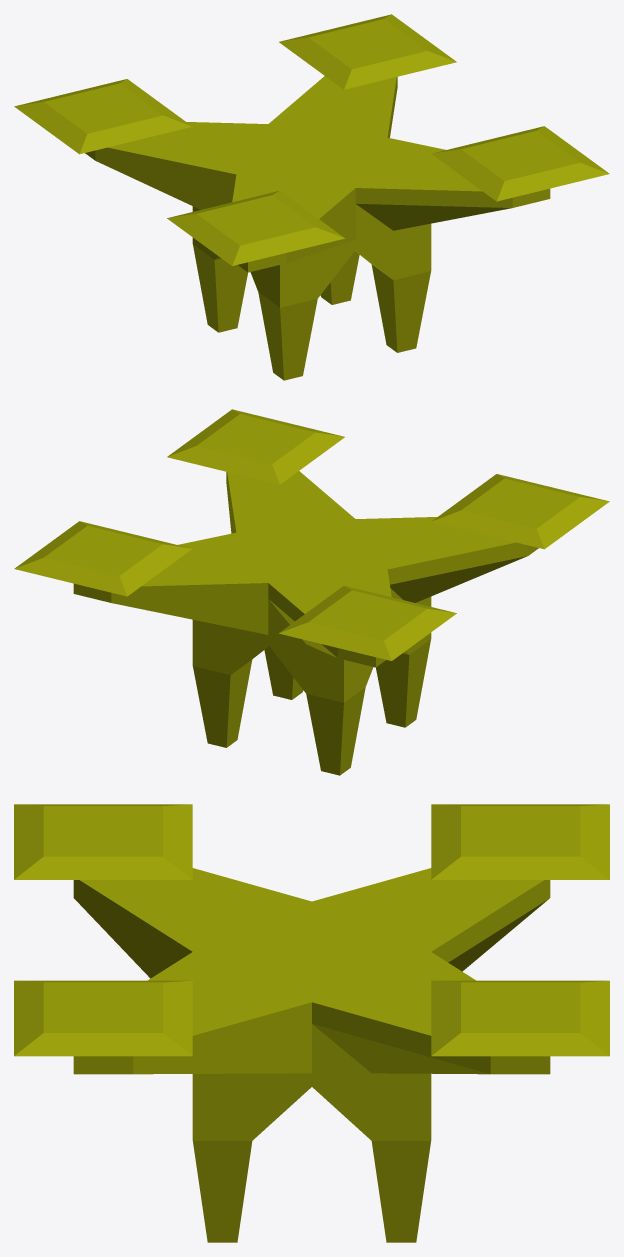
Rendered from Drone.obj.
3 views of the same model, one above another, from view 1: azimuth 30°, elevation 25°; view 2: azimuth 150°, elevation 25°; view 3: azimuth 270°, elevation 25° (orthographic). The views are drawn at different scales.
Bounding box in the file's own units: 5 × 2.58 × 5.
